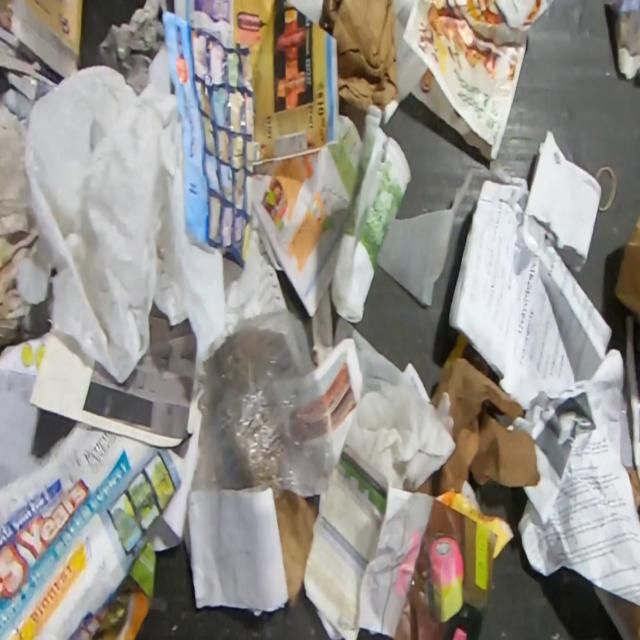cardboard: (414, 355, 540, 497), (325, 0, 400, 113), (276, 491, 319, 611), (614, 211, 640, 324)
metal: (594, 166, 617, 211)
rigid_plastic: (329, 123, 413, 324), (376, 166, 475, 308)
soft_plastic: (14, 64, 228, 385), (190, 305, 334, 502)
